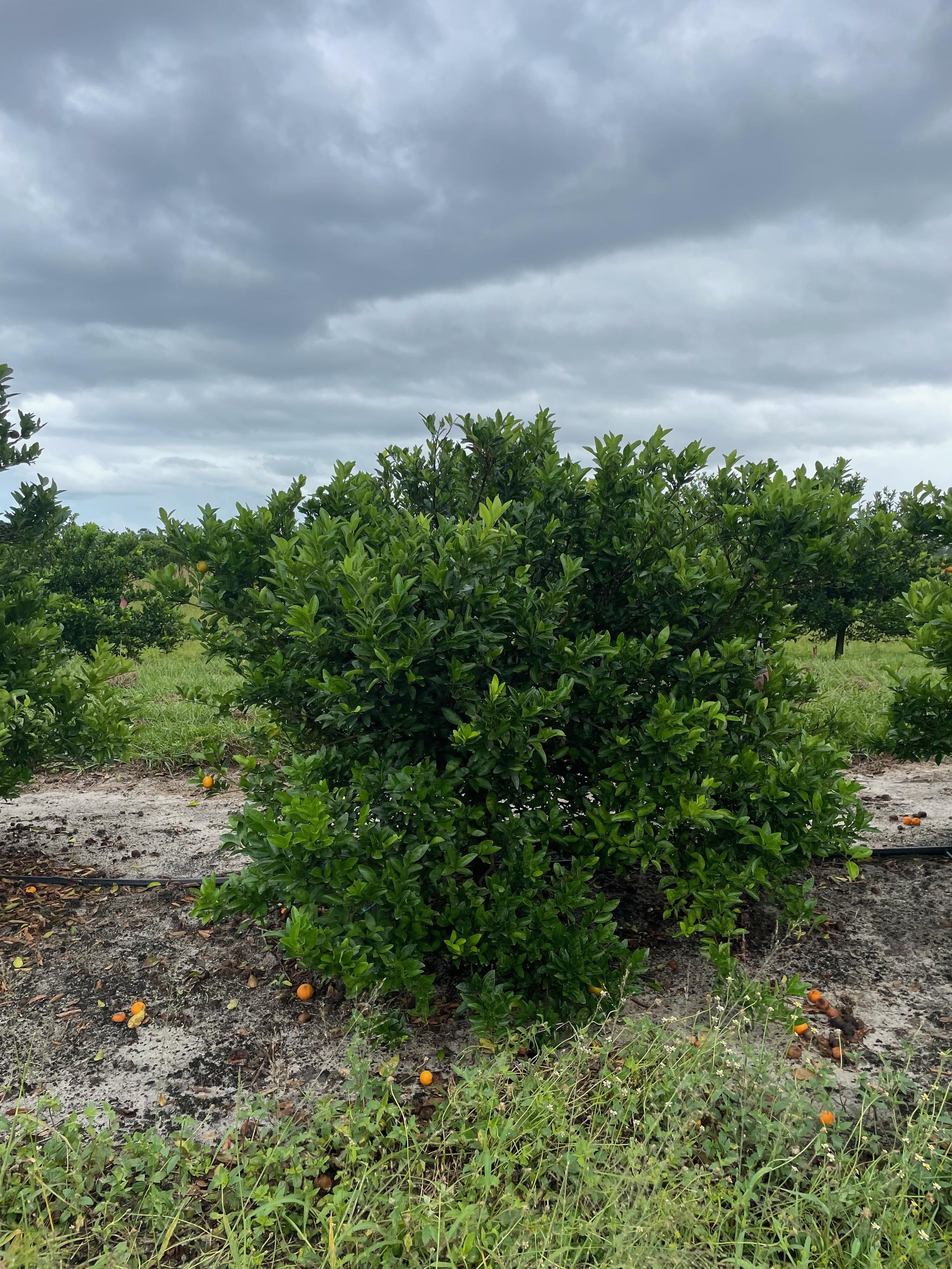fruit_on_ground: (585, 976, 608, 997), (200, 773, 215, 790), (194, 559, 210, 574)
fruit_on_tree: (295, 980, 316, 1002), (816, 1107, 837, 1128), (129, 998, 149, 1018), (791, 1017, 810, 1036), (417, 1068, 436, 1087), (807, 986, 825, 1004), (784, 1043, 803, 1060), (814, 995, 832, 1011), (109, 1008, 127, 1023), (909, 815, 922, 827), (901, 815, 914, 826)
